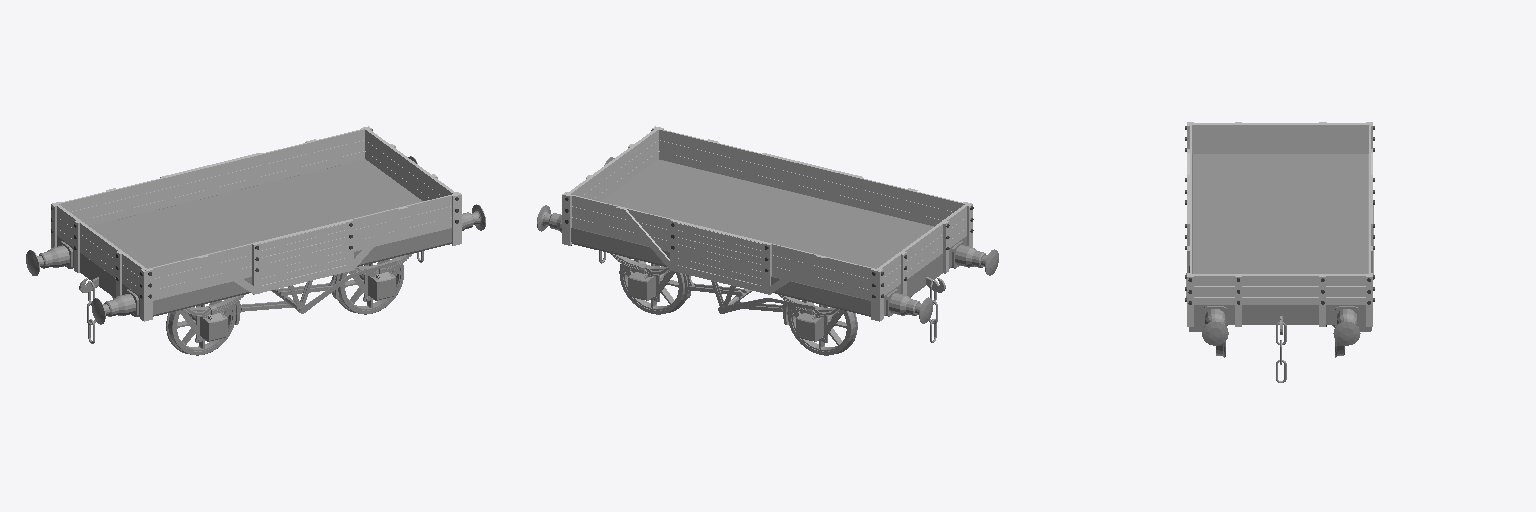
3 views of the same model, side by side, from view 1: azimuth 30°, elevation 25°; view 2: azimuth 150°, elevation 25°; view 3: azimuth 270°, elevation 25° (orthographic).
Visible parts, largest first — view 1: FRAME_Rivet.001_Rivet.000_Rivet.001_Rivet.002_Rivet.001_Rivet.0, SHELL_Rivet.001_Rivet.000_Rivet.001_Rivet.002_Rivet.001_Rivet.0, FRAME_Cube.150, Rivet.001_Rivet.000_Rivet.001_Rivet.002_Rivet.001_Rivet.000.055, SHELL.001_Rivet.001_Rivet.000_Rivet.001_Rivet.002_Rivet.001_Riv, SHELL_Cylinder.045_SHELL_Cylinder.007_SHELL_Cylinder.045_SH.003, Rivet.001_Rivet.000_Rivet.001_Rivet.002_Rivet.001_Rivet.000.051, FRAME_WHEEL_1_Cylinder.016, FRAME_WHEEL_2_Cylinder.002, SHELL_Cylinder.045_SHELL_Cylinder.002_SHELL_Cylinder.045_SH.000; view 2: FRAME_Rivet.001_Rivet.000_Rivet.001_Rivet.002_Rivet.001_Rivet.0, SHELL_Rivet.001_Rivet.000_Rivet.001_Rivet.002_Rivet.001_Rivet.0, FRAME_Cube.150, Rivet.001_Rivet.000_Rivet.001_Rivet.002_Rivet.001_Rivet.000.055, SHELL.001_Rivet.001_Rivet.000_Rivet.001_Rivet.002_Rivet.001_Riv, SHELL_Cylinder.045_SHELL_Cylinder.007_SHELL_Cylinder.045_SH.003, Rivet.001_Rivet.000_Rivet.001_Rivet.002_Rivet.001_Rivet.000.051, FRAME_WHEEL_1_Cylinder.016, FRAME_WHEEL_2_Cylinder.002, SHELL_Cylinder.045_SHELL_Cylinder.002_SHELL_Cylinder.045_SH.000; view 3: FRAME_Rivet.001_Rivet.000_Rivet.001_Rivet.002_Rivet.001_Rivet.0, SHELL_Rivet.001_Rivet.000_Rivet.001_Rivet.002_Rivet.001_Rivet.0, SHELL.001_Rivet.001_Rivet.000_Rivet.001_Rivet.002_Rivet.001_Riv, Rivet.001_Rivet.000_Rivet.001_Rivet.002_Rivet.001_Rivet.000.051, SHELL_Cylinder.045_SHELL_Cylinder.002_SHELL_Cylinder.045_SH.000, SHELL_Cylinder.045_SHELL_Cylinder.007_SHELL_Cylinder.045_SH.003.
Part boxes in pixels (x1,y1,x2,y2): FRAME_Rivet.001_Rivet.000_Rivet.001_Rivet.002_Rivet.001_Rivet.0: (57,159,451,316); SHELL_Rivet.001_Rivet.000_Rivet.001_Rivet.002_Rivet.001_Rivet.0: (57,128,452,299); FRAME_Cube.150: (179,253,413,342); Rivet.001_Rivet.000_Rivet.001_Rivet.002_Rivet.001_Rivet.000.055: (260,223,346,292); SHELL.001_Rivet.001_Rivet.000_Rivet.001_Rivet.002_Rivet.001_Riv: (51,126,461,321); SHELL_Cylinder.045_SHELL_Cylinder.007_SHELL_Cylinder.045_SH.003: (37,212,479,316); Rivet.001_Rivet.000_Rivet.001_Rivet.002_Rivet.001_Rivet.000.051: (52,128,461,271); FRAME_WHEEL_1_Cylinder.016: (112,296,236,355); FRAME_WHEEL_2_Cylinder.002: (338,258,403,314); SHELL_Cylinder.045_SHELL_Cylinder.002_SHELL_Cylinder.045_SH.000: (26,156,485,324); FRAME_Rivet.001_Rivet.000_Rivet.001_Rivet.002_Rivet.001_Rivet.0: (571,159,966,316); SHELL_Rivet.001_Rivet.000_Rivet.001_Rivet.002_Rivet.001_Rivet.0: (567,130,966,299); FRAME_Cube.150: (610,253,844,342); Rivet.001_Rivet.000_Rivet.001_Rivet.002_Rivet.001_Rivet.000.055: (677,223,763,292); SHELL.001_Rivet.001_Rivet.000_Rivet.001_Rivet.002_Rivet.001_Riv: (562,129,972,321); SHELL_Cylinder.045_SHELL_Cylinder.007_SHELL_Cylinder.045_SH.003: (543,213,987,316); Rivet.001_Rivet.000_Rivet.001_Rivet.002_Rivet.001_Rivet.000.051: (568,126,971,271); FRAME_WHEEL_1_Cylinder.016: (787,296,911,355); FRAME_WHEEL_2_Cylinder.002: (619,258,684,314); SHELL_Cylinder.045_SHELL_Cylinder.002_SHELL_Cylinder.045_SH.000: (537,157,998,323); FRAME_Rivet.001_Rivet.000_Rivet.001_Rivet.002_Rivet.001_Rivet.0: (1189,154,1368,324); SHELL_Rivet.001_Rivet.000_Rivet.001_Rivet.002_Rivet.001_Rivet.0: (1192,125,1369,304); SHELL.001_Rivet.001_Rivet.000_Rivet.001_Rivet.002_Rivet.001_Riv: (1187,126,1372,326); Rivet.001_Rivet.000_Rivet.001_Rivet.002_Rivet.001_Rivet.000.051: (1187,122,1372,276); SHELL_Cylinder.045_SHELL_Cylinder.002_SHELL_Cylinder.045_SH.000: (1202,321,1360,345); SHELL_Cylinder.045_SHELL_Cylinder.007_SHELL_Cylinder.045_SH.003: (1203,306,1358,326).
Size of the model in its own units: 5.92 by 1.67 by 2.53.
Materials: 15 (2 with a texture image).